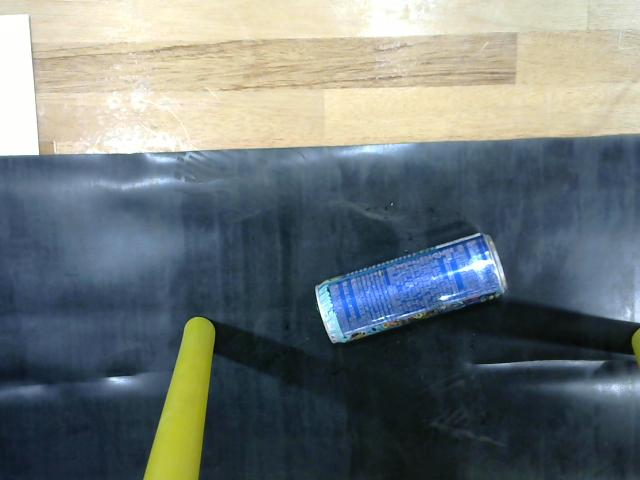can: (302, 223, 518, 355)
